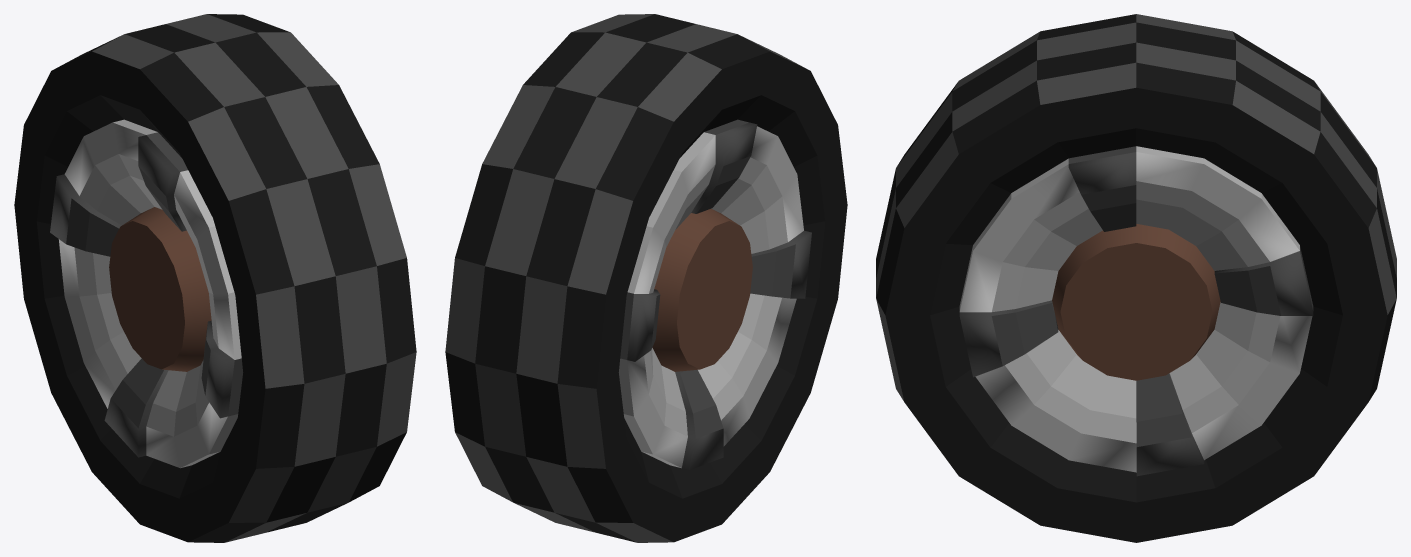
File: wheel.fbx
3 views of the same model, side by side, from view 1: azimuth 30°, elevation 25°; view 2: azimuth 150°, elevation 25°; view 3: azimuth 270°, elevation 25° (orthographic).
Visible parts, largest first — view 1: wheel; view 2: wheel; view 3: wheel.
Boxes of the visible parts, x1,y1,x2,y2 form: wheel: (14,14,416,542); wheel: (445,14,847,542); wheel: (876,14,1396,542).
Bounding box in the file's own units: 68.37 × 200 × 200.
